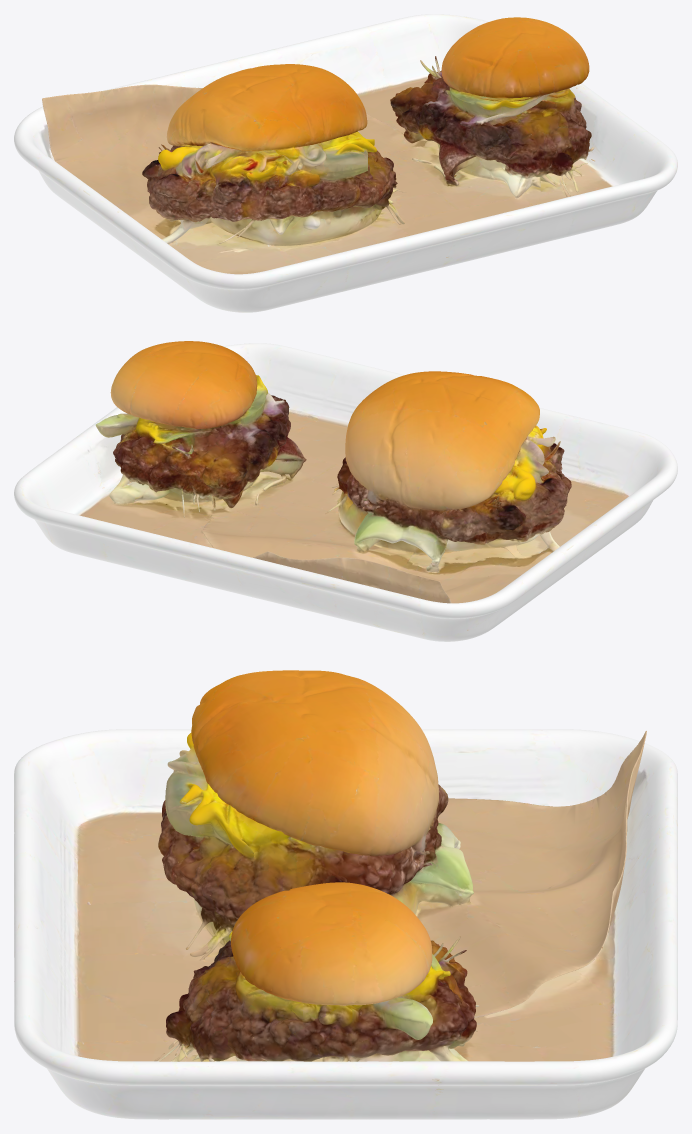
The model's file is Classis_Beef_Burgers.glb.
3 renders of one model, top to bottom at view 1: azimuth 30°, elevation 25°; view 2: azimuth 150°, elevation 25°; view 3: azimuth 270°, elevation 25°, orthographic. The views are drawn at different scales.
Size of the model in its own units: 1.9 by 0.5681 by 1.56.
Materials: 1 (1 with a texture image).
